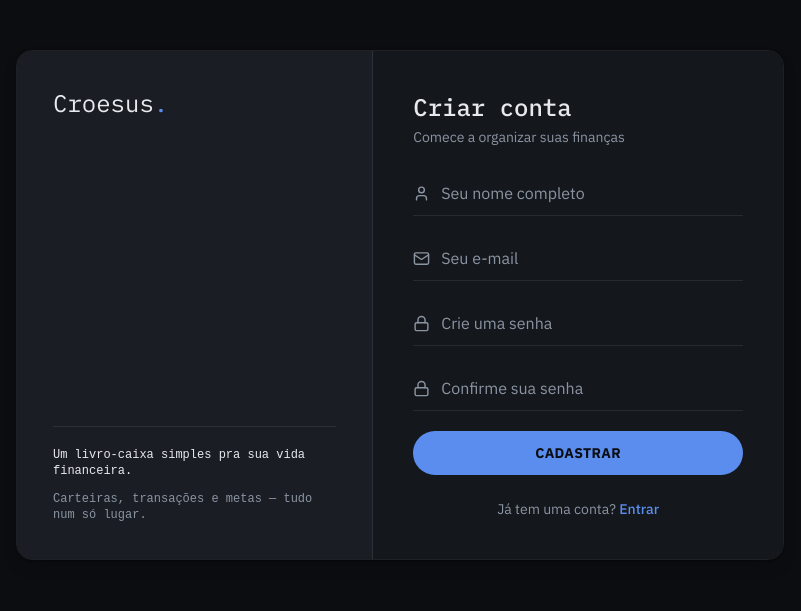
Test: RegisterPage › shows an error message when registration fails
The width and height of the screenshot is (801, 611).
Type "John Doe" into the field with placeholder "Seu nome completo" at (578, 194), box [413,171,743,216]
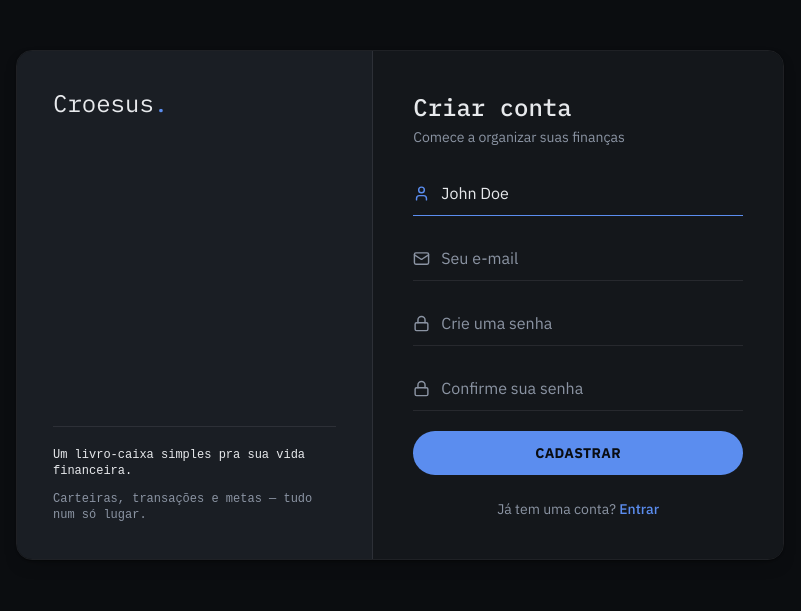
Type "john@example.com" into the field with placeholder "Seu e-mail" at (578, 258), box [413,236,743,281]
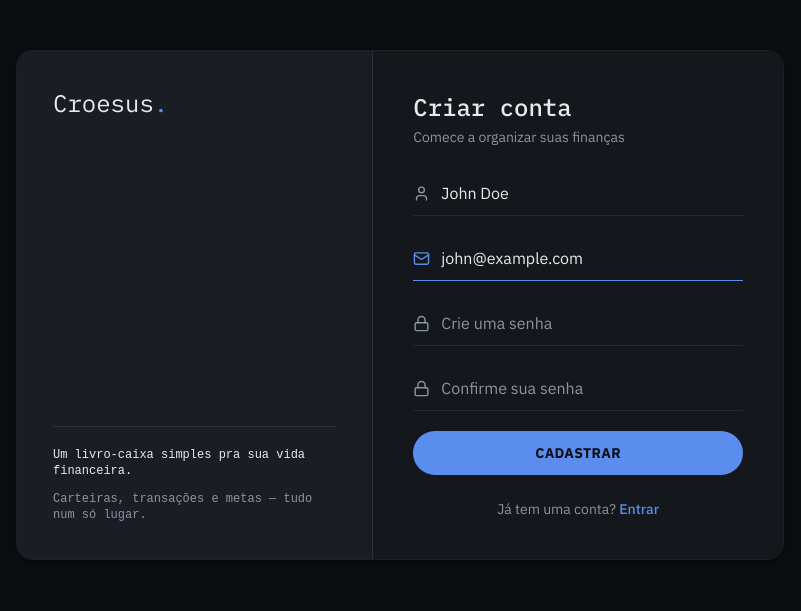
Type "secret123" into the password field with placeholder "Crie uma senha" at (578, 324), box [413,301,743,346]
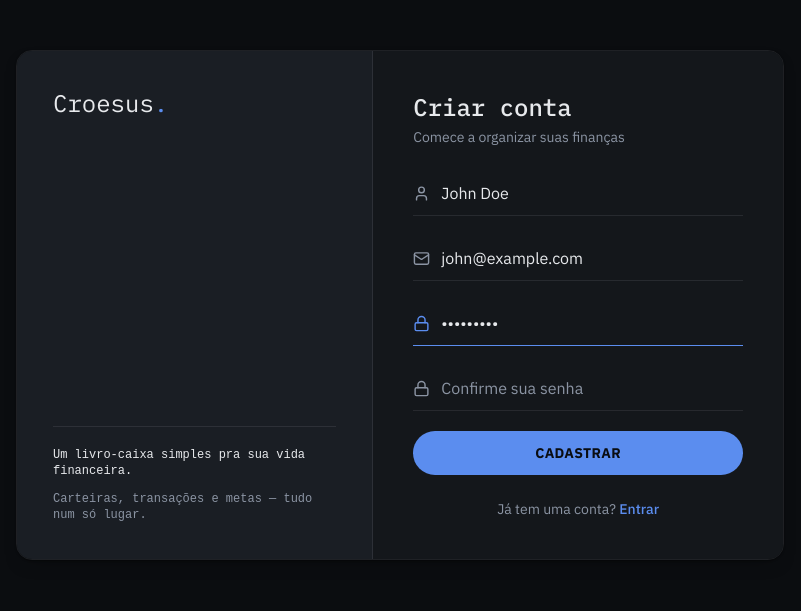
Type "secret123" into the password field with placeholder "Confirme sua senha" at (578, 388), box [413,366,743,411]
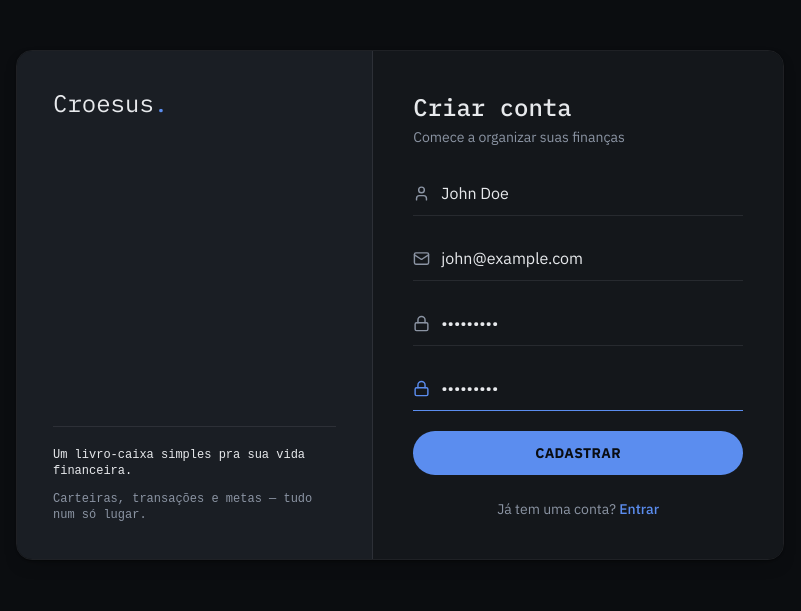
Click the button "Cadastrar" at (578, 453), box [413,431,743,475]
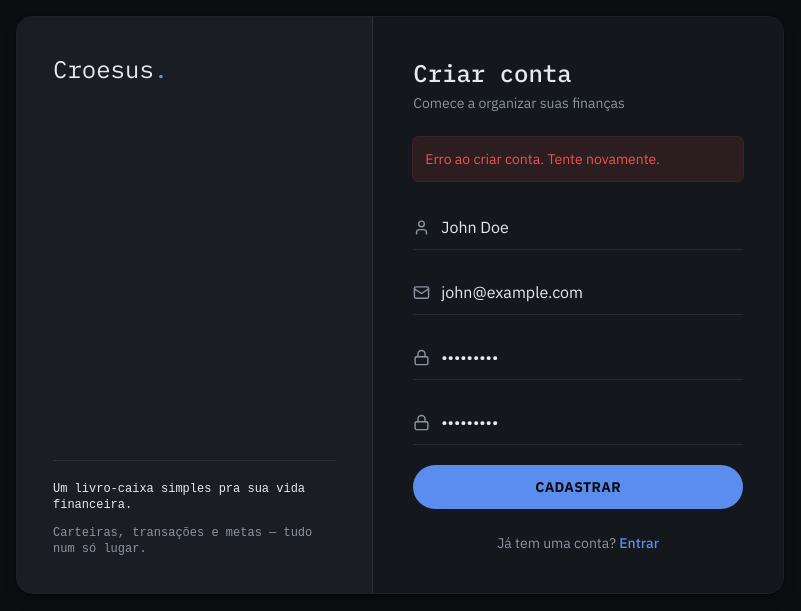
Result: the text "Erro ao criar conta. Tente novamente." is shown at [413,137,743,181]
